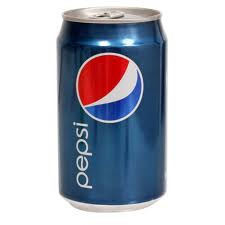pepsi: (57, 9, 166, 210)
